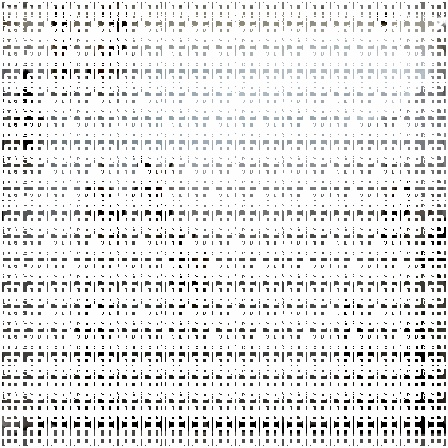bee: (117, 131, 186, 235), (151, 223, 221, 311), (1, 50, 54, 158), (70, 150, 132, 242), (327, 274, 377, 375), (391, 316, 439, 420), (83, 21, 141, 96), (369, 160, 410, 266), (412, 187, 447, 294), (44, 8, 84, 97)
